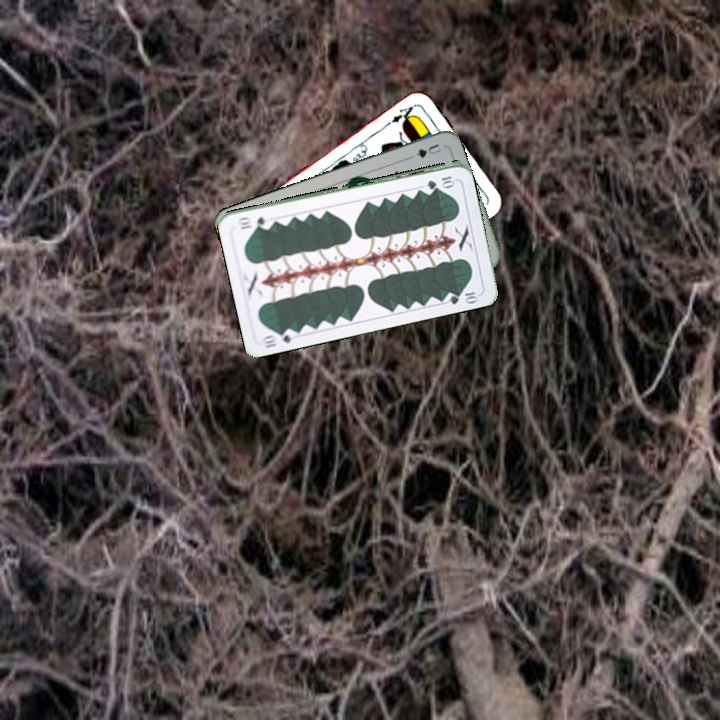EA: (382, 101, 418, 129)
G10: (259, 325, 299, 351), (423, 172, 457, 190)
GU: (406, 139, 445, 161)
